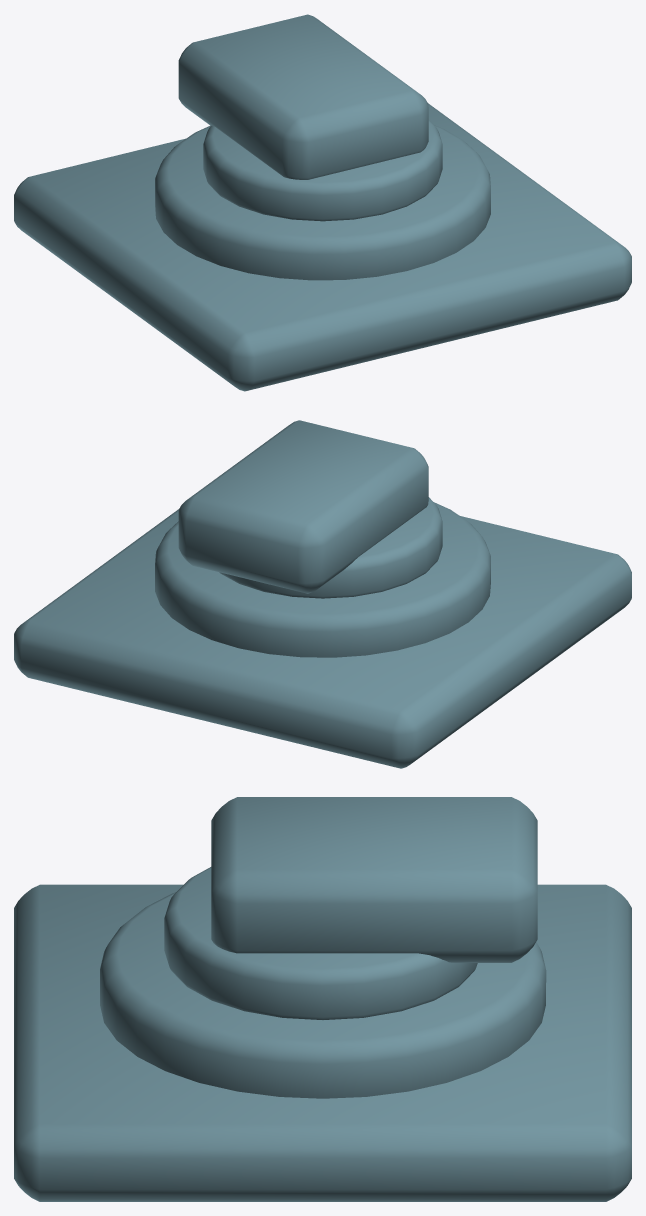
The model's file is ArmorFairing.fbx.
3 views of the same model, one above another, from view 1: azimuth 30°, elevation 25°; view 2: azimuth 150°, elevation 25°; view 3: azimuth 270°, elevation 25° (orthographic). The views are drawn at different scales.
Parts seen in each view (by area): view 1: Render_LOD0; view 2: Render_LOD0; view 3: Render_LOD0.
Boxes of the visible parts, box(x1,y1,x2,y2) form: Render_LOD0: box(14, 14, 631, 391); Render_LOD0: box(14, 420, 631, 768); Render_LOD0: box(14, 797, 631, 1201).
Size of what is drawn, in the model's own units: 1.44 by 0.64 by 1.44.
